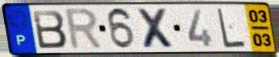4: (186, 8, 215, 48)
6: (106, 6, 139, 52)
B: (30, 9, 69, 50)
L: (215, 7, 248, 50)
R: (64, 7, 106, 52)
X: (134, 7, 178, 50)
